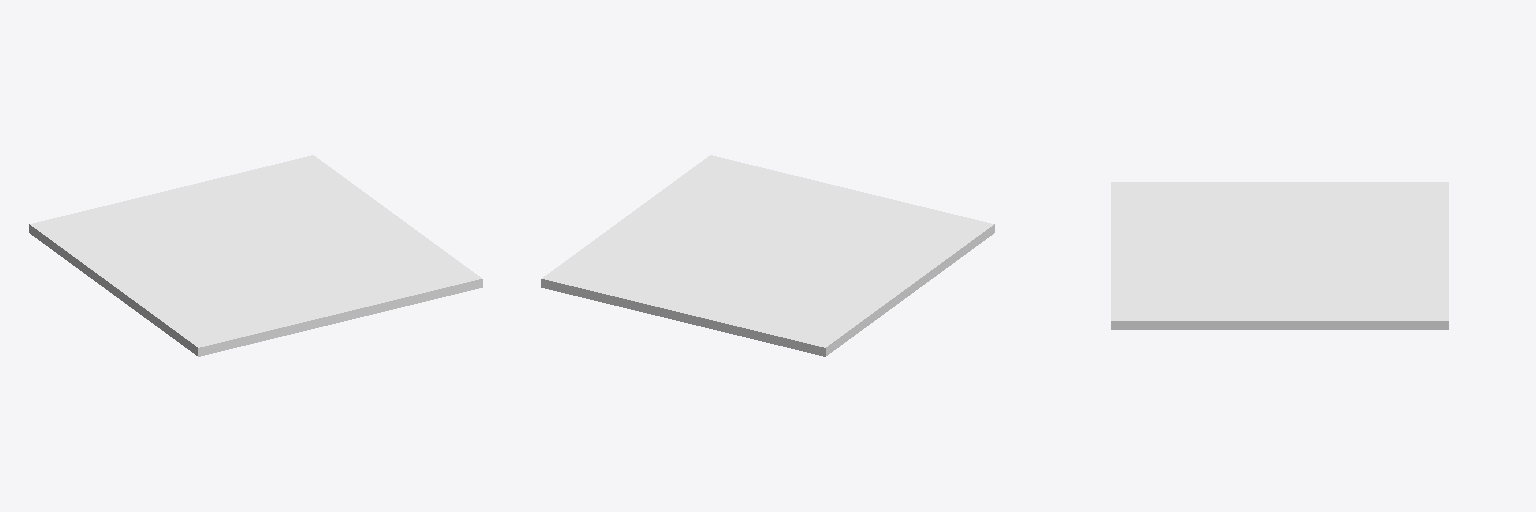
The model's file is sawanna_tla.obj.
3 views of the same model, side by side, from view 1: azimuth 30°, elevation 25°; view 2: azimuth 150°, elevation 25°; view 3: azimuth 270°, elevation 25° (orthographic).
Visible parts, largest first — view 1: object 1; view 2: object 1; view 3: object 1.
Part boxes in pixels (left/top/right/bottom): object 1: left=29, top=155, right=482, bottom=356; object 1: left=541, top=155, right=994, bottom=356; object 1: left=1111, top=182, right=1448, bottom=329.
Bounding box in the file's own units: 3.3 × 0.1 × 3.4.